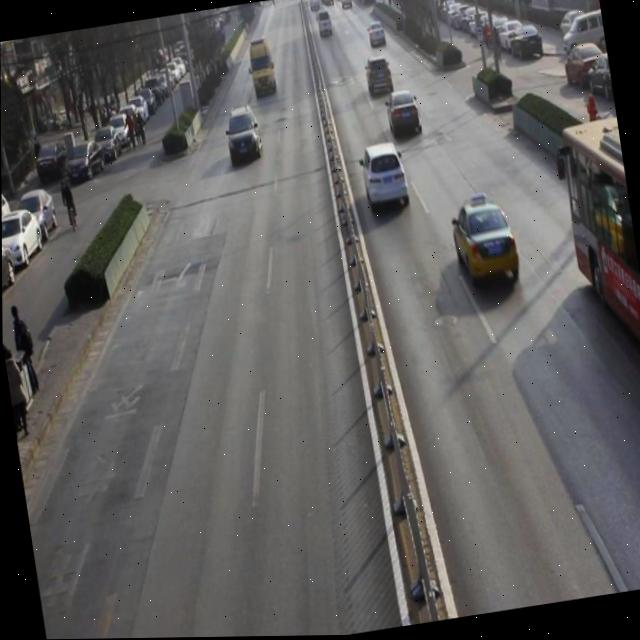car: (447, 195, 526, 298), (358, 140, 415, 222), (224, 104, 264, 168), (383, 88, 426, 144), (363, 57, 396, 101), (367, 22, 389, 54)
truck: (246, 38, 281, 107), (316, 10, 335, 44)
van: (553, 120, 640, 396)
